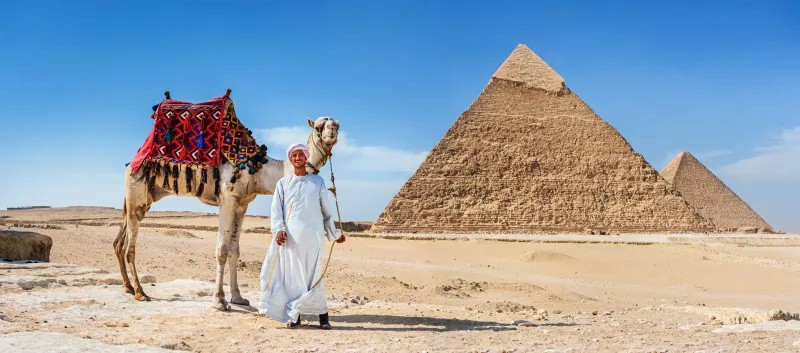Pyramid: (371, 43, 720, 234), (659, 152, 776, 233)
